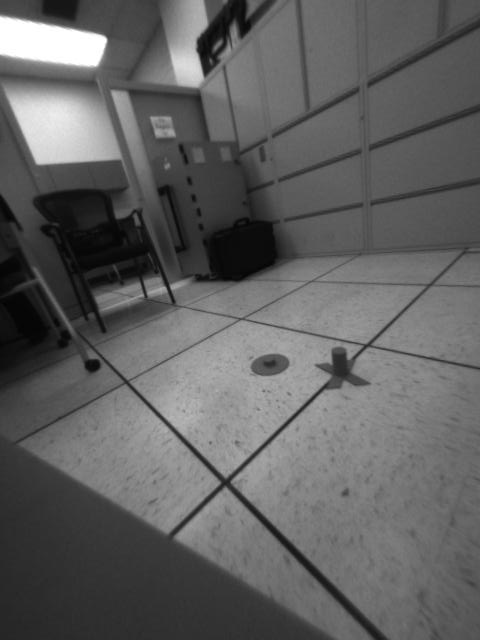X: (312, 345, 374, 390)
